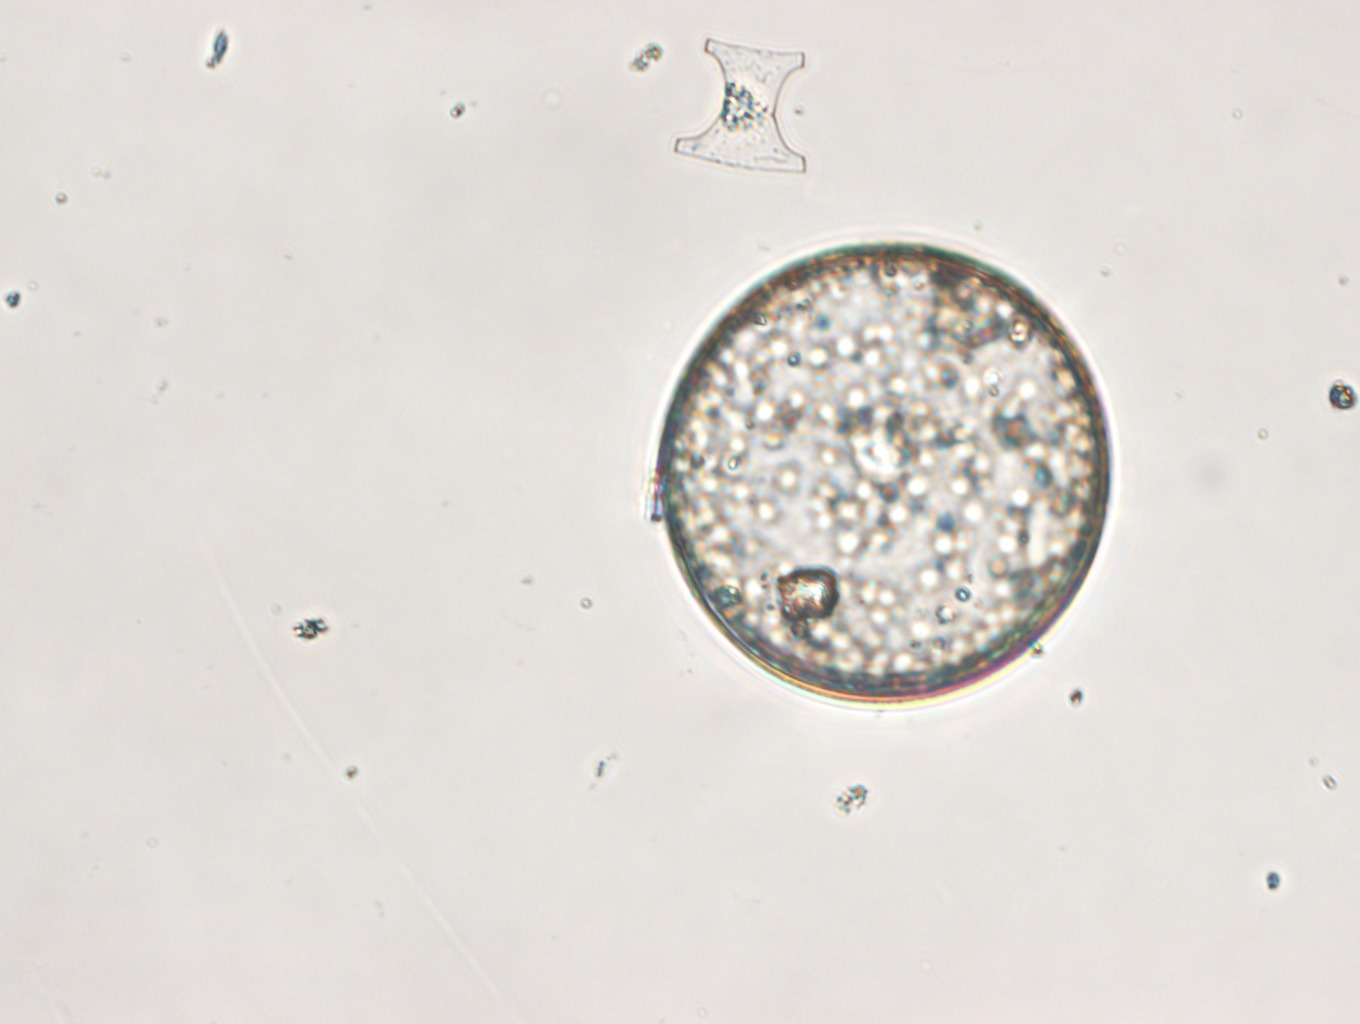coscinodiscus: (653, 236, 1114, 703)
eucampia: (672, 35, 808, 174)
